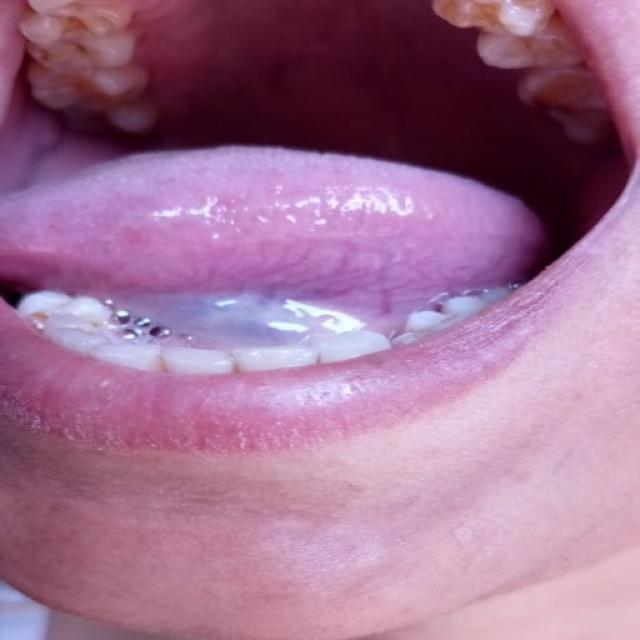processing_area: (0, 5, 621, 342)
